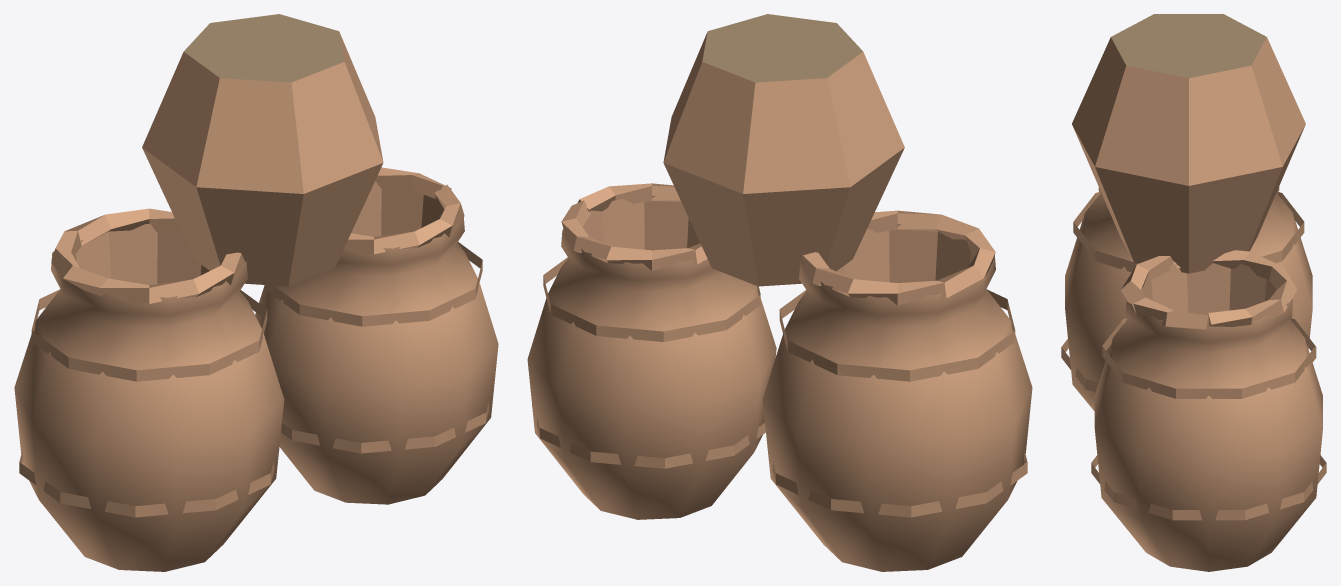
Rendered from pot_stack.glb.
3 renders of one model, left to right at view 1: azimuth 30°, elevation 25°; view 2: azimuth 150°, elevation 25°; view 3: azimuth 270°, elevation 25°, orthographic. The views are drawn at different scales.
Parts seen in each view (by area): view 1: pot_stack; view 2: pot_stack; view 3: pot_stack.
Part boxes in pixels (left/top/right/bottom): pot_stack: left=14, top=14, right=498, bottom=571; pot_stack: left=527, top=14, right=1032, bottom=571; pot_stack: left=1061, top=14, right=1326, bottom=571.
Bounding box in the file's own units: 0.51 × 0.49 × 0.2648.
